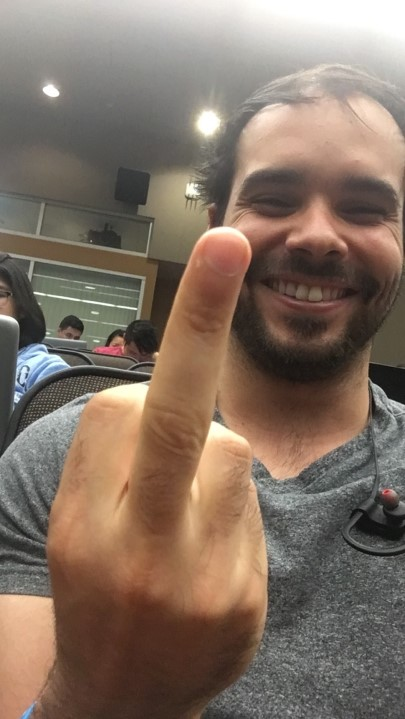hand: (46, 228, 267, 705)
